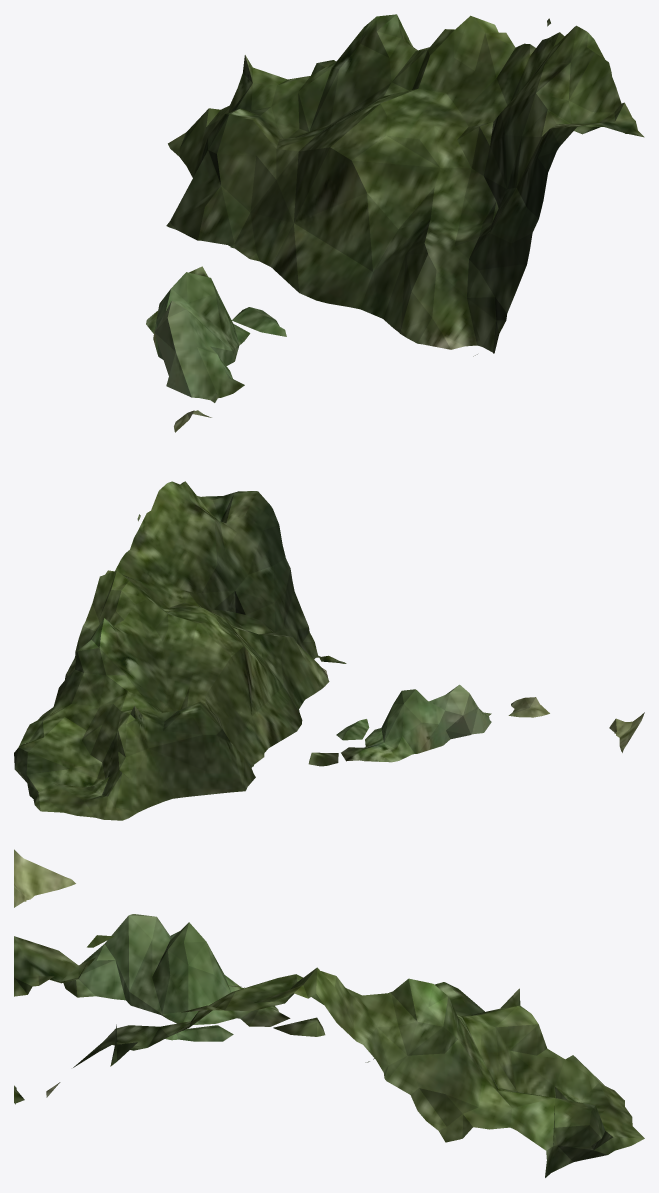
3 views of the same model, one above another, from view 1: azimuth 30°, elevation 25°; view 2: azimuth 150°, elevation 25°; view 3: azimuth 270°, elevation 25° (orthographic). The views are drawn at different scales.
Bounding box in the file's own units: 2.95 × 1.15 × 2.67.
2 materials, 2 textured.
